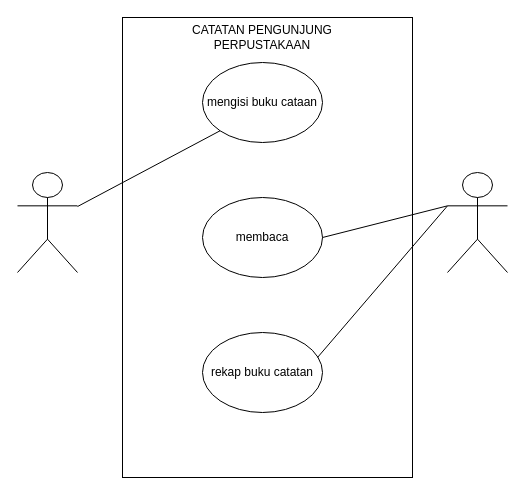
The diagram is 526 pixels wide and 495 high, and some of its shapes have lost their labels. The shapes that lost their labels are listed below. From the top down, each one's box as (x1, y1, x2, y2) in pixels, then its label:
(16, 172, 78, 272): anggota
(446, 172, 508, 272): pengunjung
